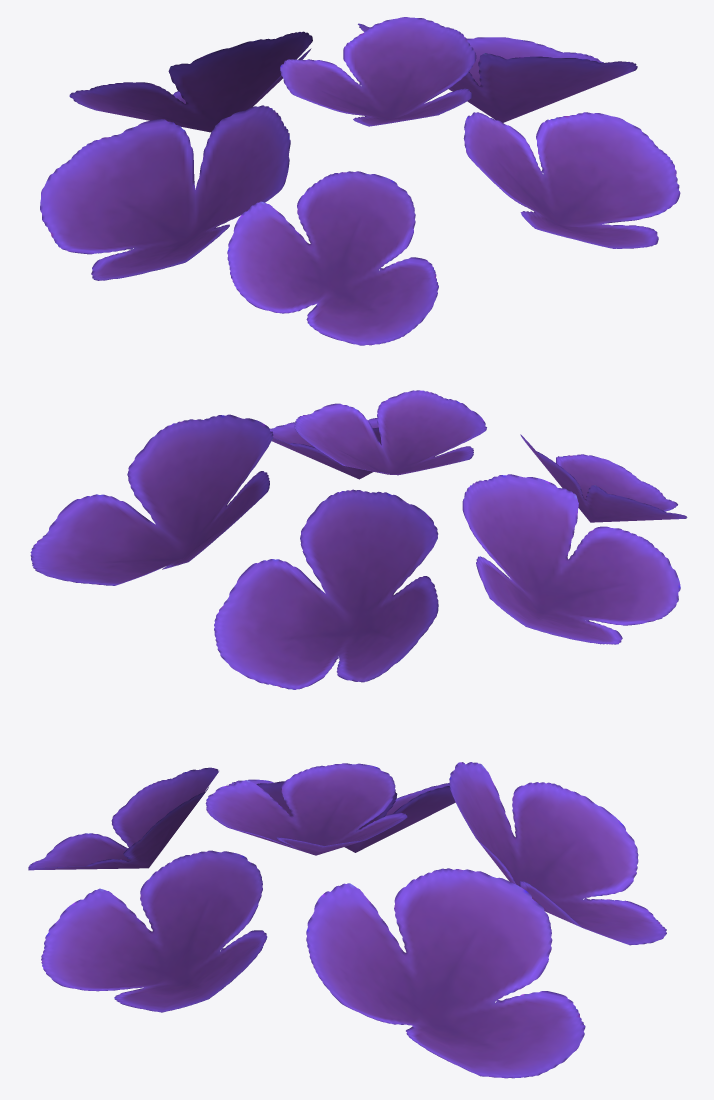
Rendered from Plant_7.gltf.
3 renders of one model, top to bottom at view 1: azimuth 30°, elevation 25°; view 2: azimuth 150°, elevation 25°; view 3: azimuth 270°, elevation 25°, orthographic. The views are drawn at different scales.
Parts seen in each view (by area): view 1: Plant_7; view 2: Plant_7; view 3: Plant_7.
Part boxes in pixels (left/top/right/bottom): Plant_7: left=40, top=17, right=680, bottom=345; Plant_7: left=30, top=390, right=687, bottom=689; Plant_7: left=28, top=762, right=666, bottom=1078.
Bounding box in the file's own units: 1.05 × 0.2495 × 0.9621.
1 material, 1 textured.
